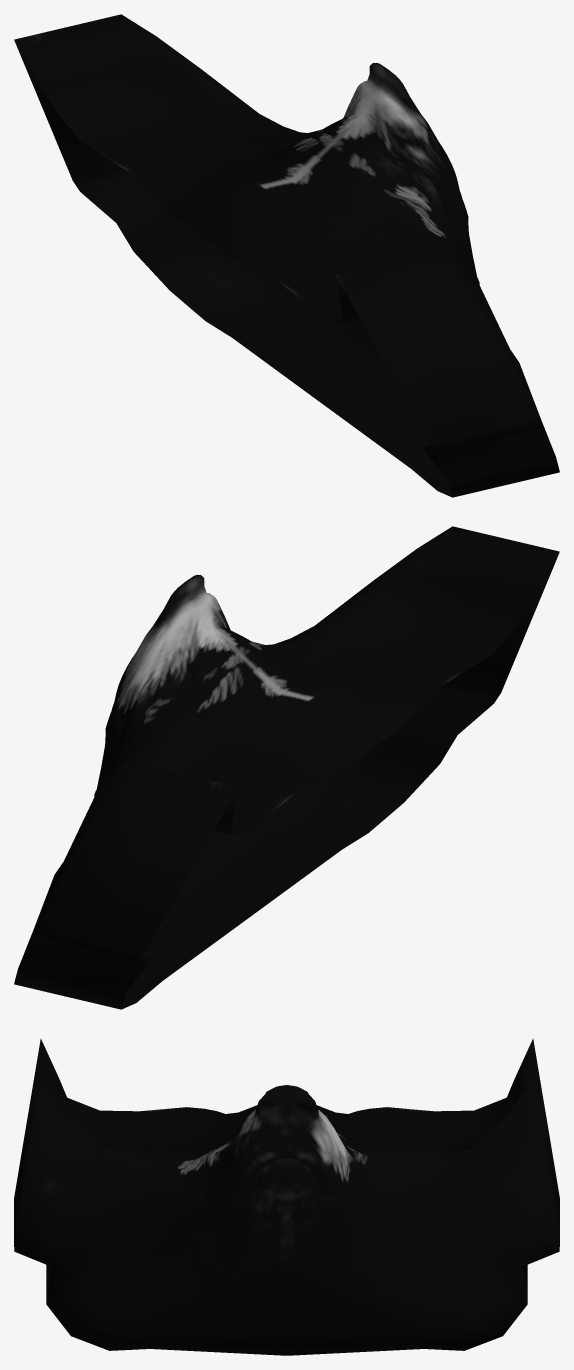
Rendered from Snout.glb.
3 renders of one model, top to bottom at view 1: azimuth 30°, elevation 25°; view 2: azimuth 150°, elevation 25°; view 3: azimuth 270°, elevation 25°, orthographic. The views are drawn at different scales.
Visible parts, largest first — view 1: Laika.001; view 2: Laika.001; view 3: Laika.001.
Boxes of the visible parts, x1,y1,x2,y2 form: Laika.001: (14,14,559,497); Laika.001: (14,526,559,1009); Laika.001: (14,1038,559,1355).
Size of the model in its own units: 0.368 by 0.4177 by 0.8228.
Materials: 1 (1 with a texture image).
